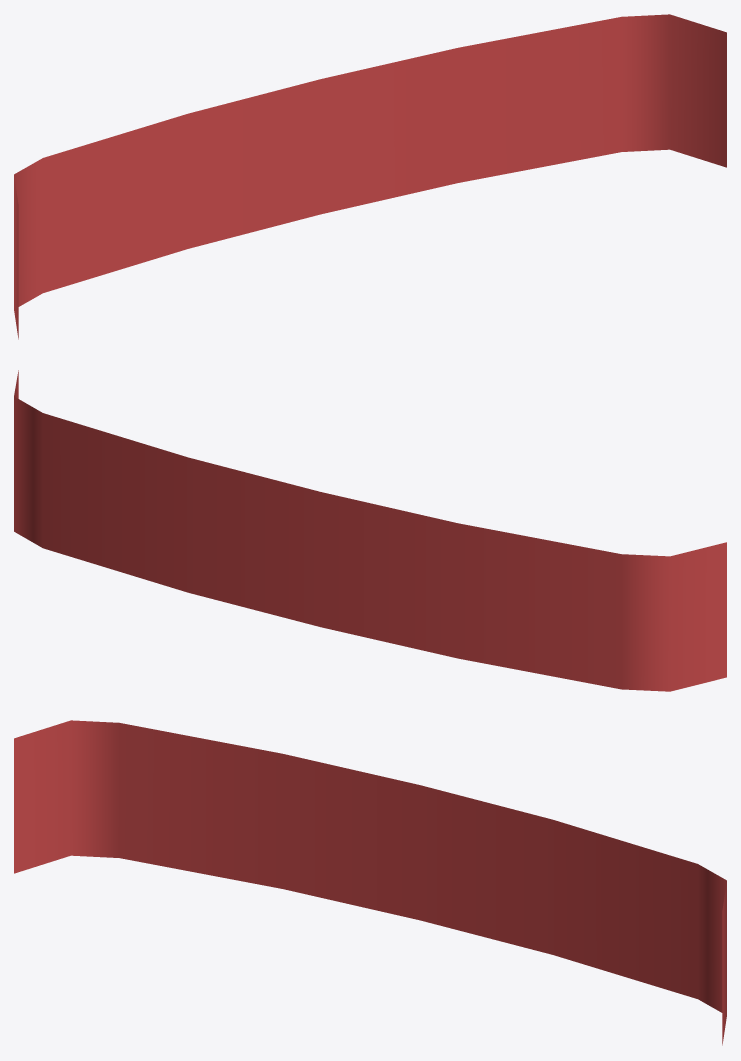
File: Supra_RearBar_01_Trim.fbx
3 views of the same model, one above another, from view 1: azimuth 30°, elevation 25°; view 2: azimuth 150°, elevation 25°; view 3: azimuth 330°, elevation 25° (orthographic).
Visible parts, largest first — view 1: Supra_RearBar_01_Trim; view 2: Supra_RearBar_01_Trim; view 3: Supra_RearBar_01_Trim.
Boxes of the visible parts, bbox=[...] form: Supra_RearBar_01_Trim: bbox=[14, 14, 726, 339]; Supra_RearBar_01_Trim: bbox=[14, 370, 726, 691]; Supra_RearBar_01_Trim: bbox=[14, 720, 726, 1045].
Size of the model in its own units: 134 by 24.74 by 16.97.
